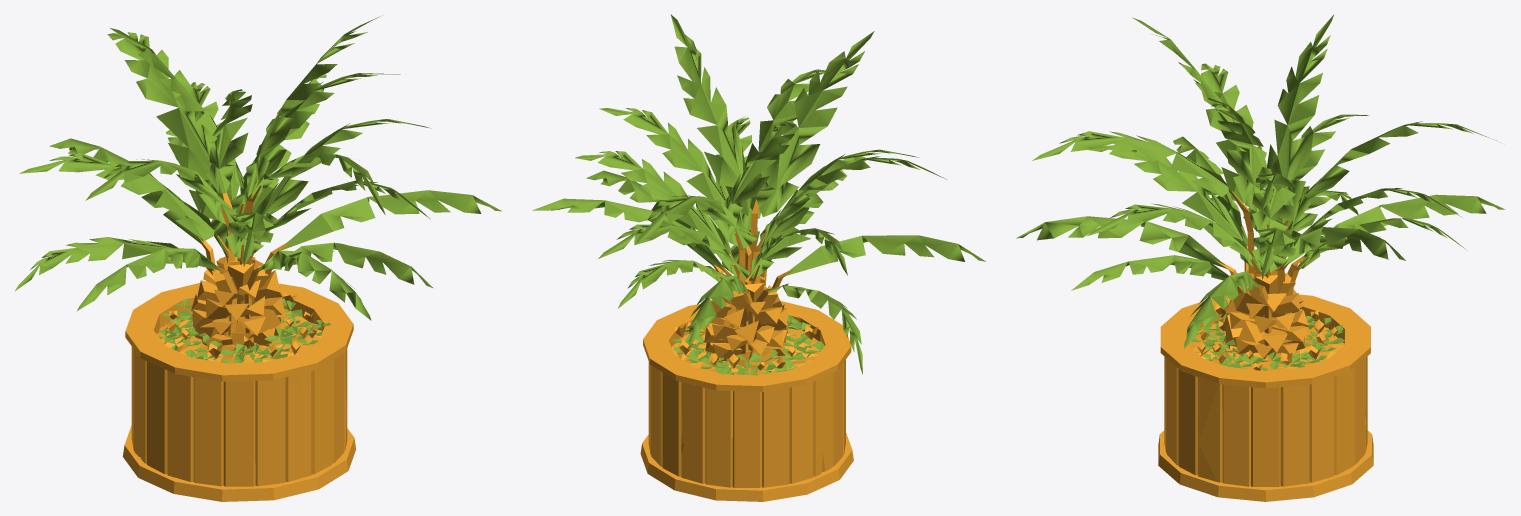
File: SM_City_Planter_Street_B_Palm.fbx
3 renders of one model, left to right at view 1: azimuth 30°, elevation 25°; view 2: azimuth 150°, elevation 25°; view 3: azimuth 270°, elevation 25°, orthographic. The views are drawn at different scales.
Parts seen in each view (by area): view 1: SM_City_Planter_Street_B_Palm; view 2: SM_City_Planter_Street_B_Palm; view 3: SM_City_Planter_Street_B_Palm.
Boxes of the visible parts, left/top/right/bottom form: SM_City_Planter_Street_B_Palm: left=15, top=16, right=501, bottom=501; SM_City_Planter_Street_B_Palm: left=532, top=14, right=985, bottom=501; SM_City_Planter_Street_B_Palm: left=1016, top=15, right=1505, bottom=501.
Bounding box in the file's own units: 3.17 × 3.04 × 3.3.
